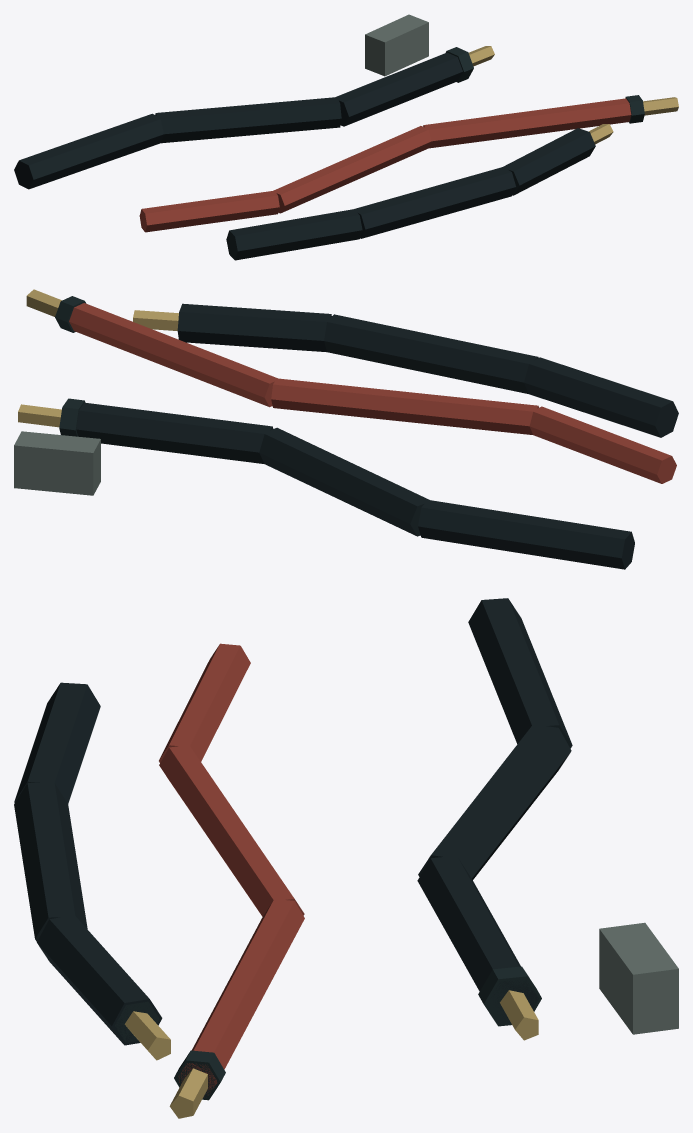
The model's file is cable-offcuts.glb.
The picture shows the model from 3 angles, top to bottom: view 1: azimuth 30°, elevation 25°; view 2: azimuth 150°, elevation 25°; view 3: azimuth 270°, elevation 25°; orthographic projection. The views are drawn at different scales.
Visible parts, largest first — view 1: cable-offcuts; view 2: cable-offcuts; view 3: cable-offcuts.
Boxes of the visible parts, <box> form: cable-offcuts: <box>14,14,678,260</box>; cable-offcuts: <box>14,289,678,569</box>; cable-offcuts: <box>14,598,678,1118</box>.
Size of the model in its own units: 0.3838 by 0.022 by 0.2212.
